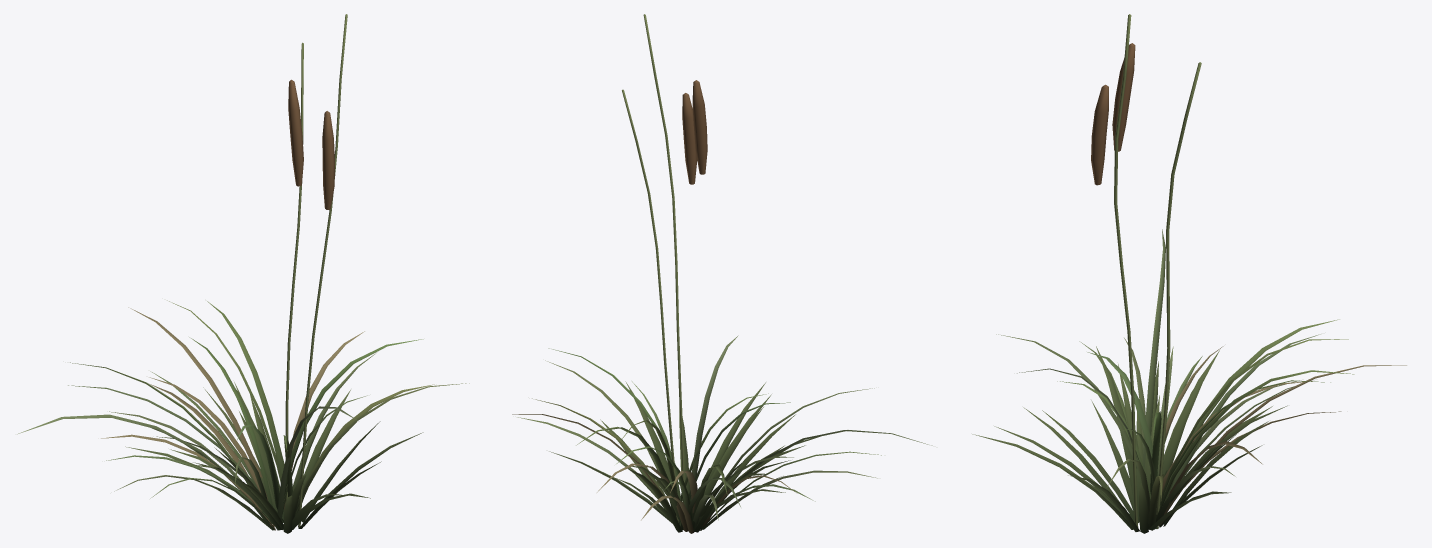
The model's file is eco_reed_riverside_LOD1.glb.
3 views of the same model, side by side, from view 1: azimuth 30°, elevation 25°; view 2: azimuth 150°, elevation 25°; view 3: azimuth 270°, elevation 25° (orthographic). The views are drawn at different scales.
Visible parts, largest first — view 1: eco_reed_riverside_LOD1; view 2: eco_reed_riverside_LOD1; view 3: eco_reed_riverside_LOD1.
Part boxes in pixels (x1,y1,x2,y2): eco_reed_riverside_LOD1: (17, 14, 469, 533); eco_reed_riverside_LOD1: (512, 14, 932, 533); eco_reed_riverside_LOD1: (972, 14, 1406, 533).
Size of the model in its own units: 1.47 by 1.64 by 1.24.
